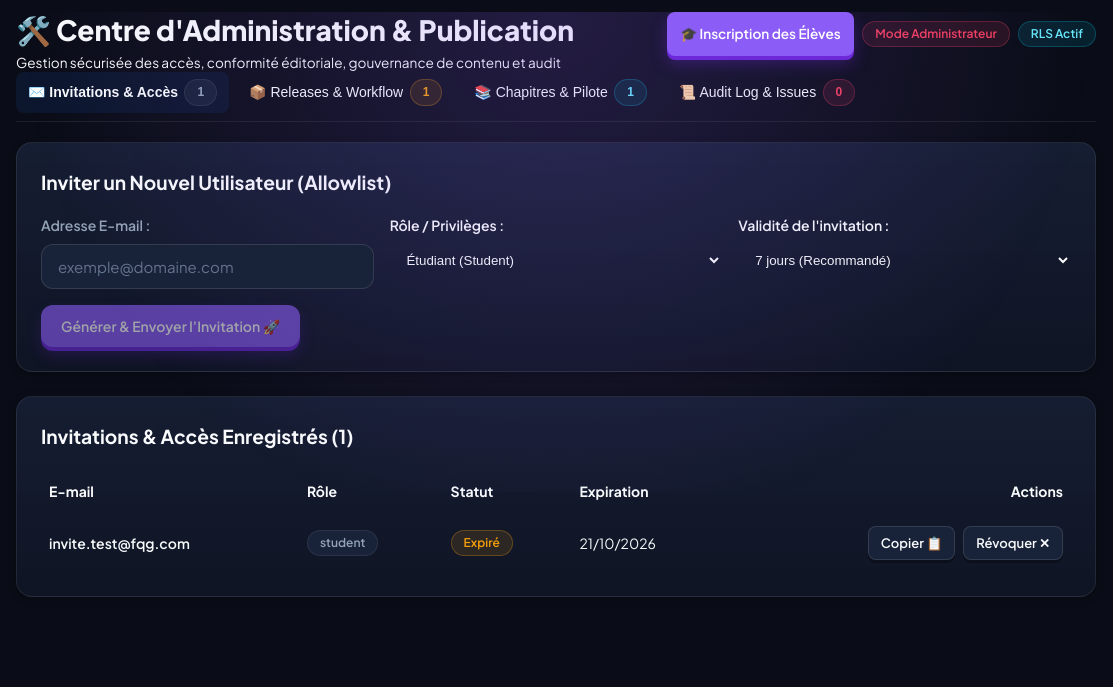
Test: AdminPage & AdminGuard (Etapa 7) › permite copiar link de convite e exibe feedback de sucesso
The width and height of the screenshot is (1113, 687).
Check: the text "invite.test@fqg.com" is shown, box [41,514,299,572]
Click the button "Copier 📋" at (912, 543), box [868,526,955,560]
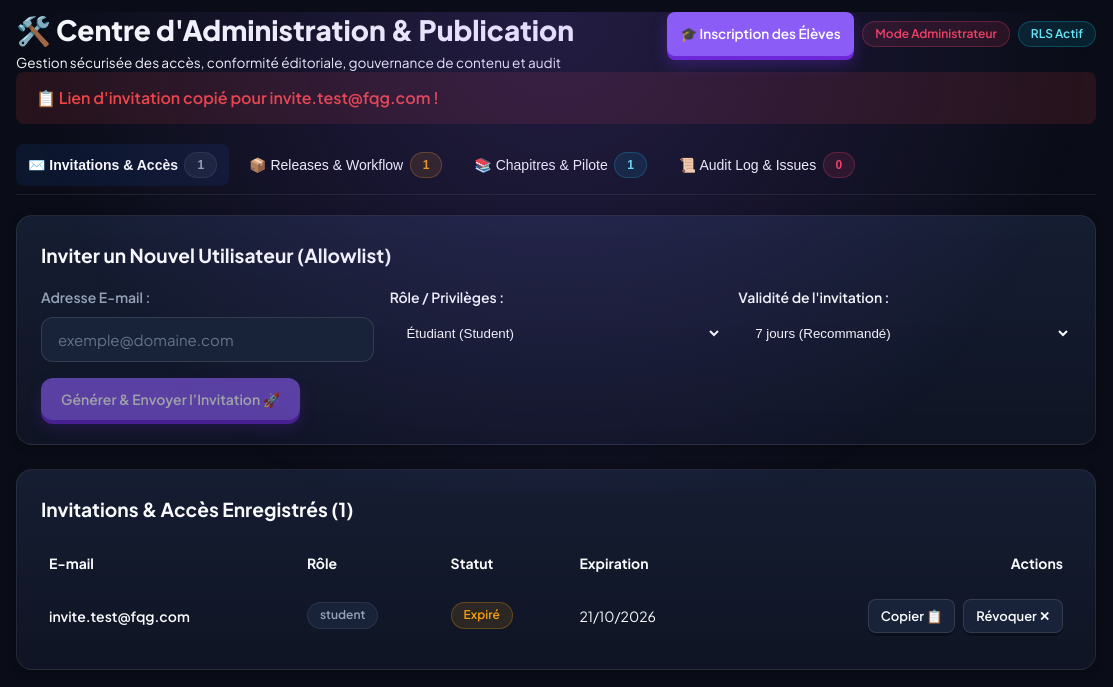
Check: the text "📋 Lien d'invitation copié pour invite.test@fqg.com !" is shown, box [16,72,1096,124]
